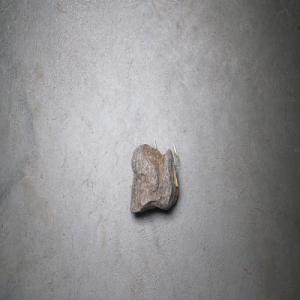Rock: (129, 140, 179, 213)
